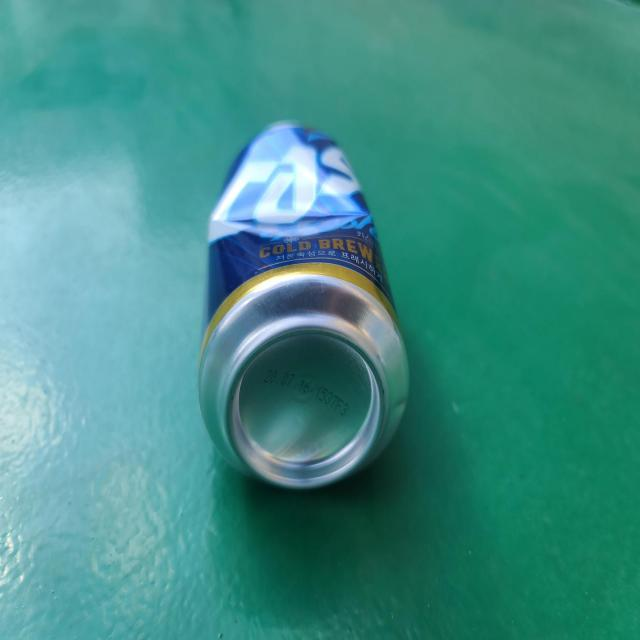can: (198, 122, 409, 488)
